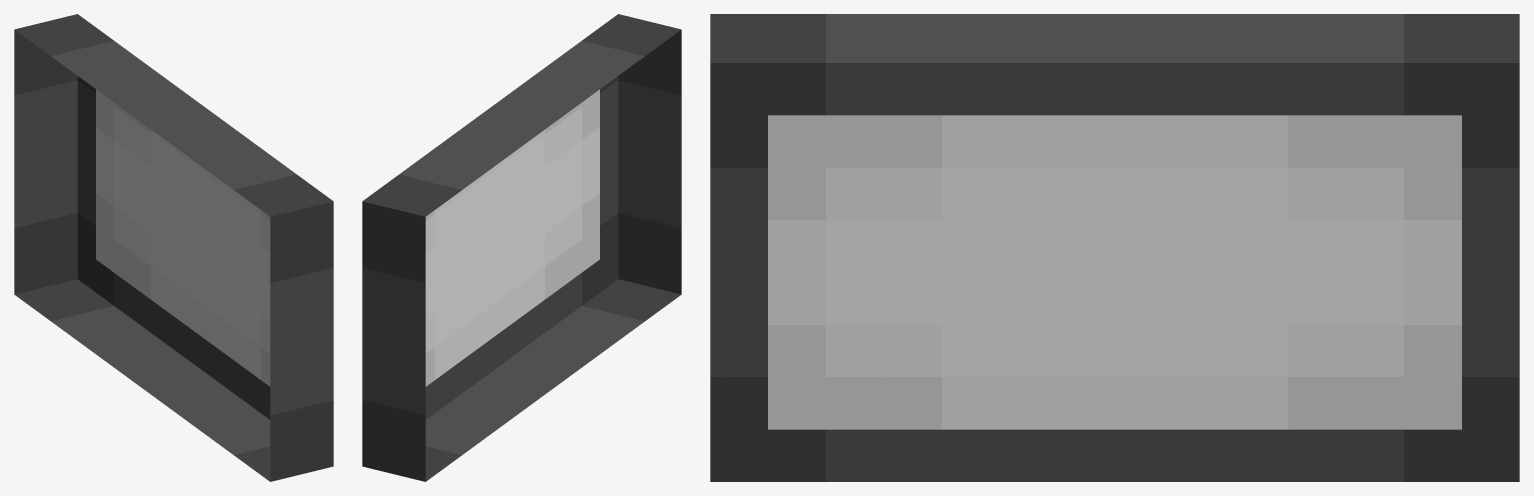
The model's file is indicator.obj.
The picture shows the model from 3 angles, left to right: view 1: azimuth 30°, elevation 25°; view 2: azimuth 150°, elevation 25°; view 3: azimuth 270°, elevation 25°; orthographic projection. The views are drawn at different scales.
Visible parts, largest first — view 1: Base, Light; view 2: Base, Light; view 3: Light, Base.
Part boxes in pixels (bbox=[...]): Base: bbox=[14, 14, 333, 481]; Light: bbox=[96, 89, 270, 386]; Base: bbox=[362, 14, 681, 481]; Light: bbox=[425, 89, 599, 386]; Light: bbox=[768, 115, 1461, 429]; Base: bbox=[710, 14, 1519, 481].
Bounding box in the file's own units: 0.0625 × 0.25 × 0.4375.
